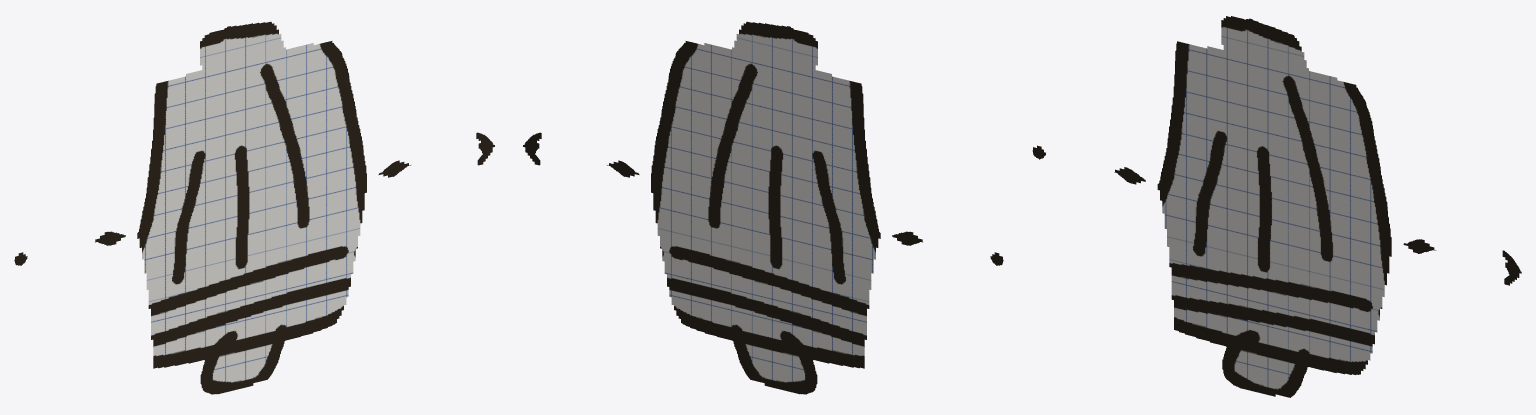
The model's file is diane.glb.
The picture shows the model from 3 angles, left to right: view 1: azimuth 30°, elevation 25°; view 2: azimuth 150°, elevation 25°; view 3: azimuth 330°, elevation 25°; orthographic projection.
Visible parts, largest first — view 1: cutout; view 2: cutout; view 3: cutout.
Boxes of the visible parts, left/top/right/bottom form: cutout: left=14, top=21, right=494, bottom=394; cutout: left=523, top=21, right=1003, bottom=394; cutout: left=1032, top=16, right=1521, bottom=397.
Bounding box in the file's own units: 3.53 × 2.59 × 0.
Materials: 1 (1 with a texture image).
